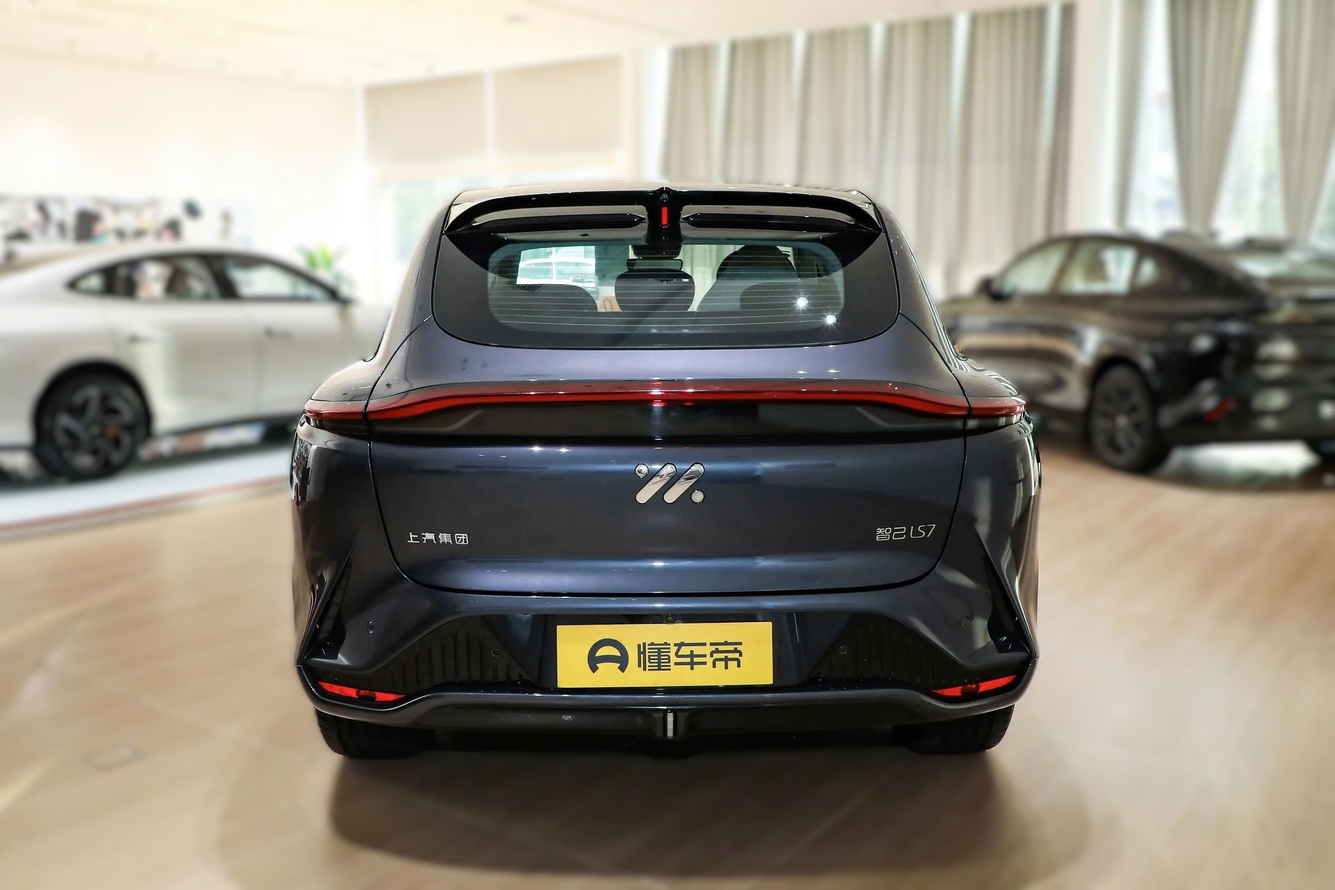IM: (635, 463, 704, 503)
